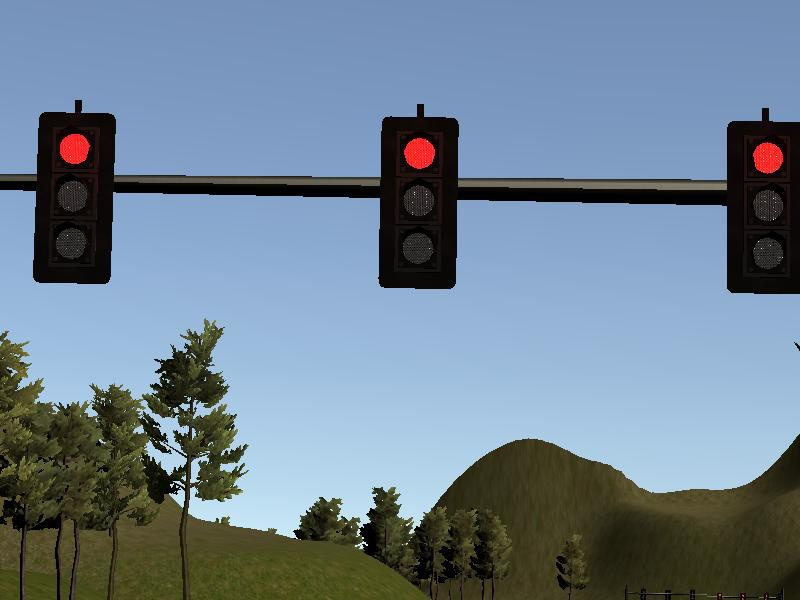red_light: (378, 117, 457, 289), (37, 112, 114, 286), (725, 121, 800, 295)
